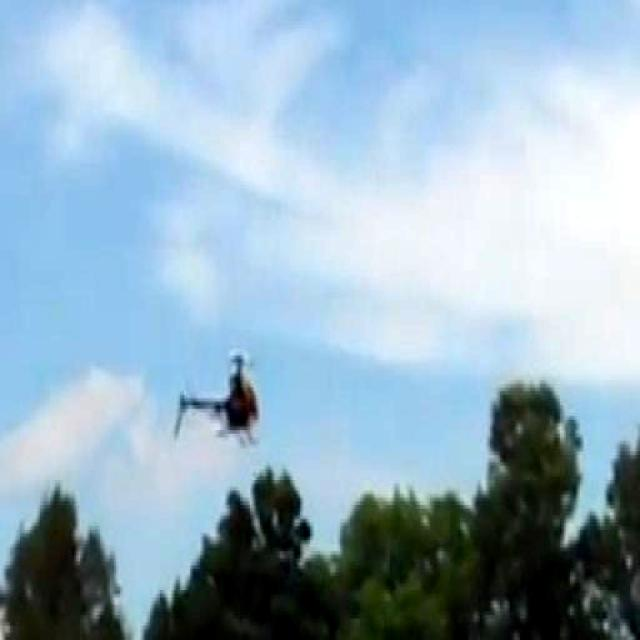drone: (170, 348, 268, 448)
